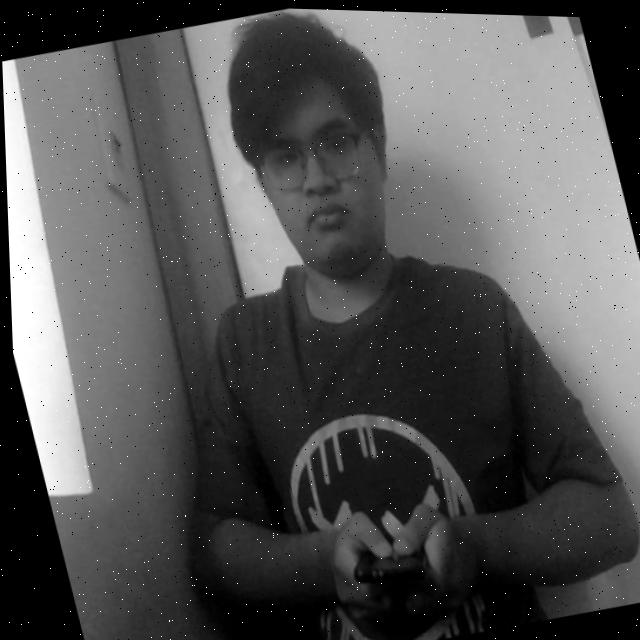phone: (329, 494, 449, 613)
